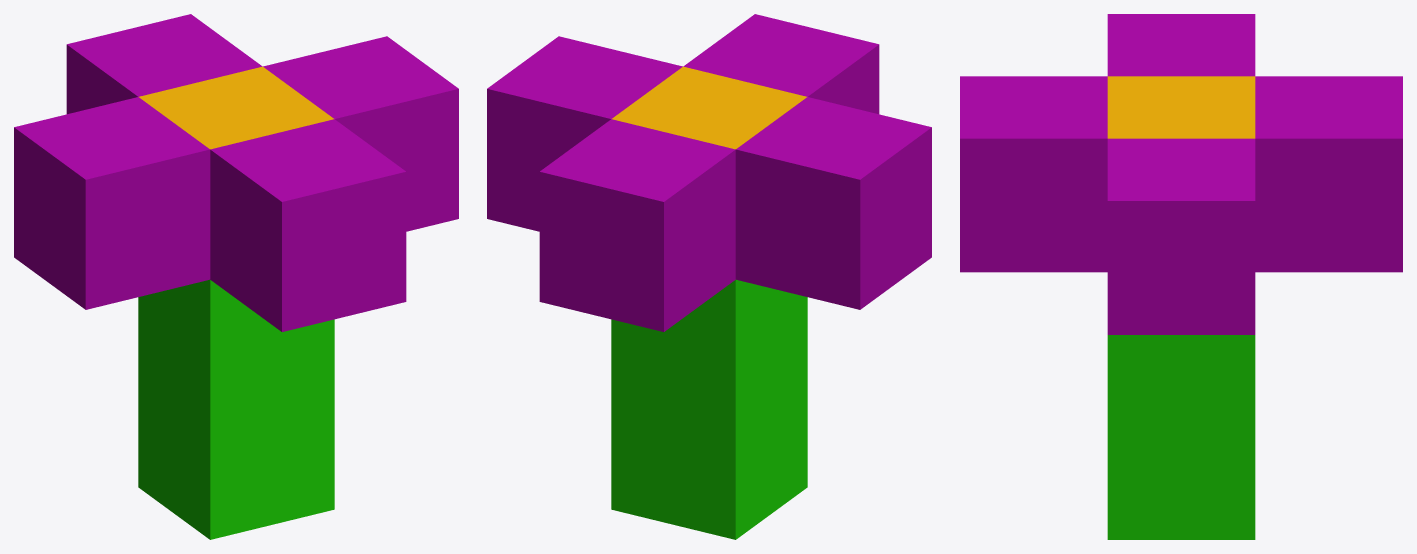
The model's file is (6) Violet Flowers (Stage 4).obj.
3 renders of one model, left to right at view 1: azimuth 30°, elevation 25°; view 2: azimuth 150°, elevation 25°; view 3: azimuth 270°, elevation 25°, orthographic. The views are drawn at different scales.
Bounding box in the file's own units: 0.3 × 0.3 × 0.3.
1 material, 1 textured.
